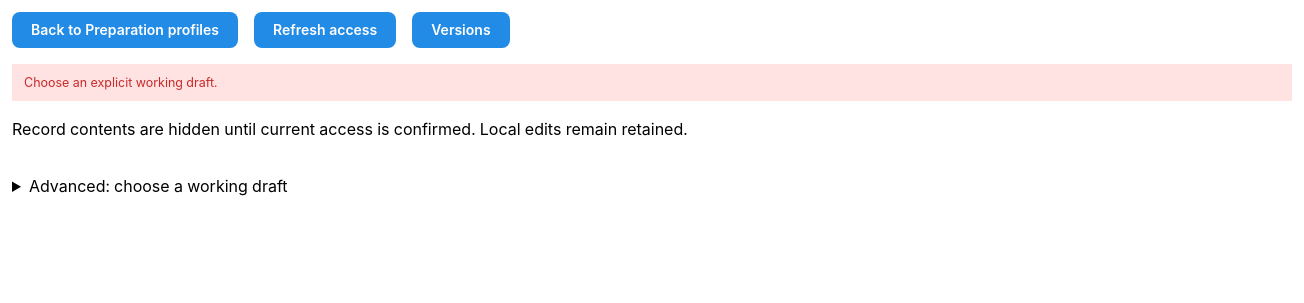
Test: explicit draft recovery is metadata-free and available only for the choice response (422)
Expected: the text "Choose an explicit working draft." is shown, [24, 75, 217, 90]
Click the heading "Advanced: choose a working draft" at (158, 186), box [29, 176, 288, 196]
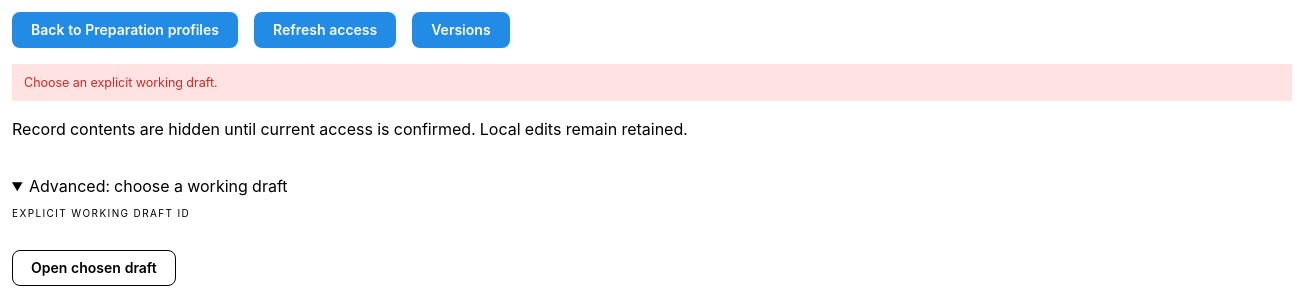
Type "chosen" into the field labelled "Explicit working draft ID" at (652, 237), box [12, 224, 1292, 250]
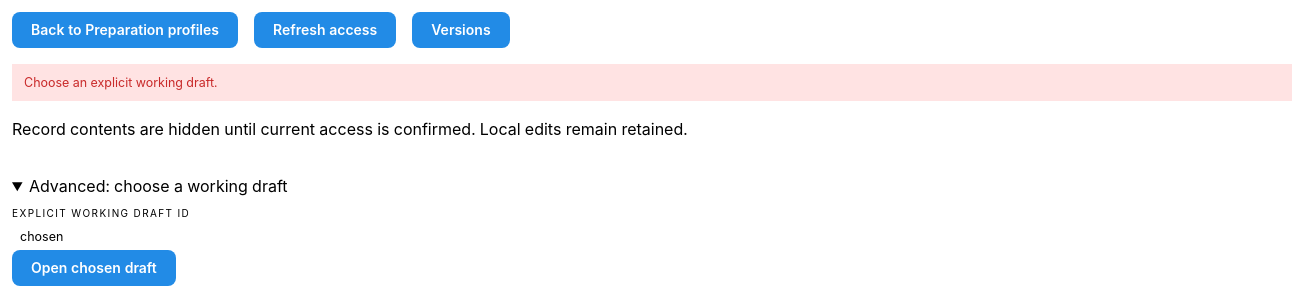
Click the button "Open chosen draft" at (94, 268), box [12, 250, 176, 286]
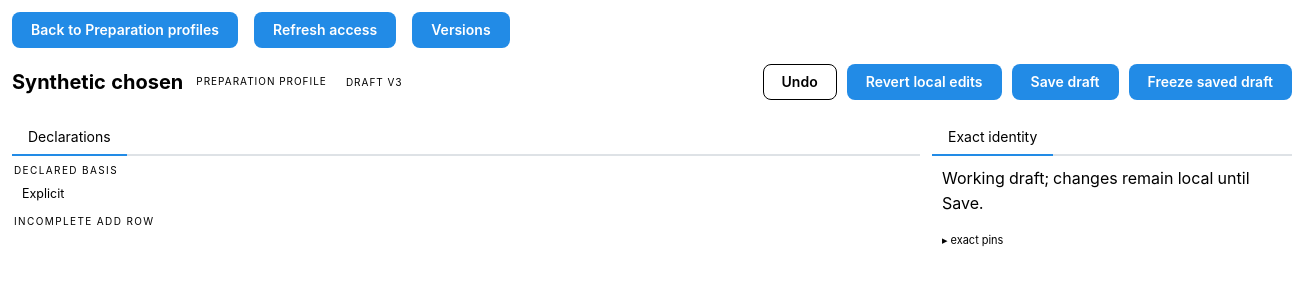
Expected: the heading "Synthetic chosen" is shown, [12, 70, 183, 94]
Expected: the field labelled "Declared basis" holds "Explicit", [14, 181, 918, 207]
